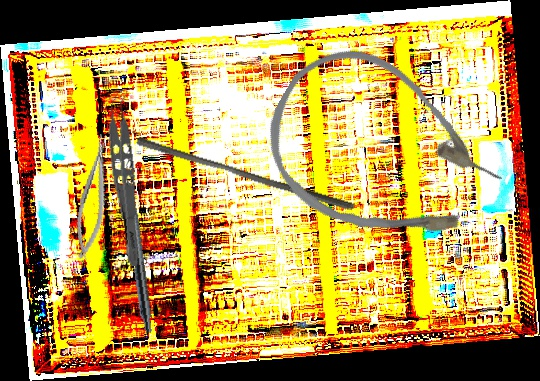Cannula: (241, 25, 524, 283)
Handpiece: (117, 154, 158, 334)
Needle Holder: (68, 132, 120, 262)
Pusher: (132, 135, 359, 212)
Tissue Forceps: (101, 90, 155, 268)
